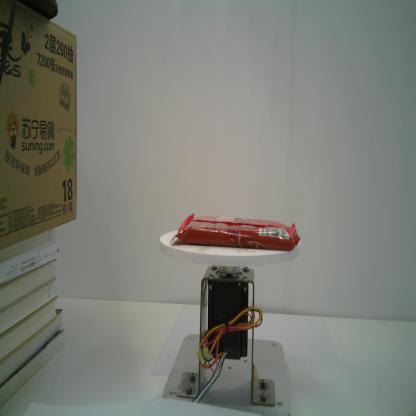Dessert: (169, 212, 301, 252)
